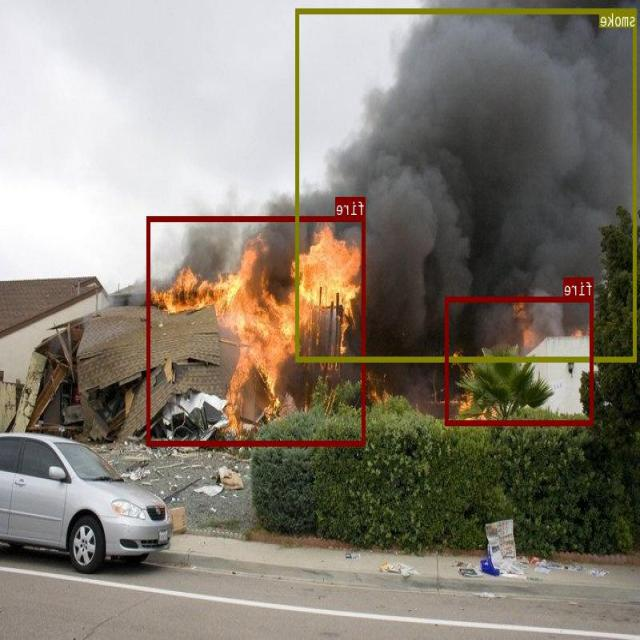fire: (148, 216, 366, 445), (446, 296, 594, 424)
smoke: (297, 8, 637, 360)
